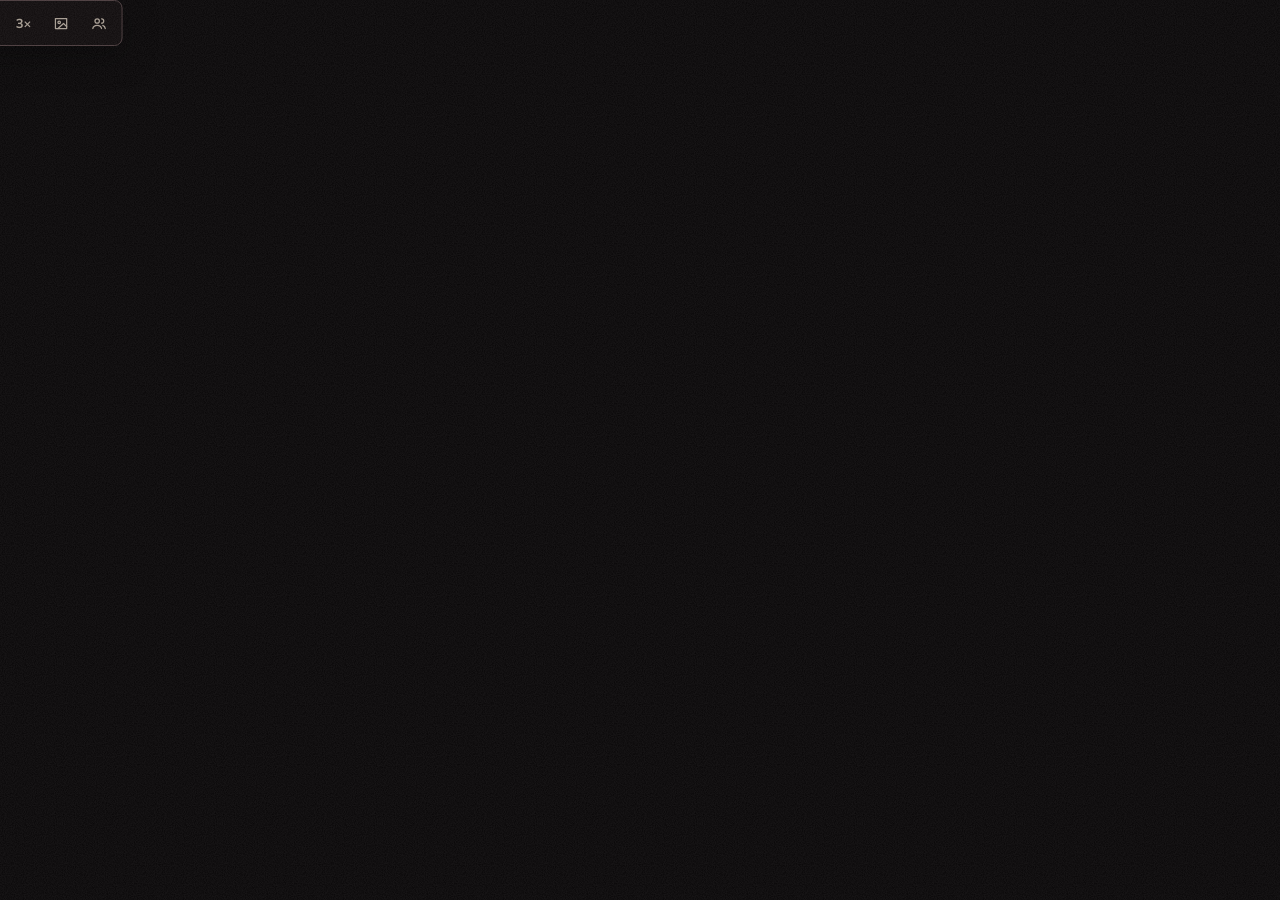
Scenario: modelo pronto na barra do token › o dono escolhe um modelo e ele vira a imagem do token
Click the button named "Escolher modelo" at (100, 23), box [82,5,118,41]
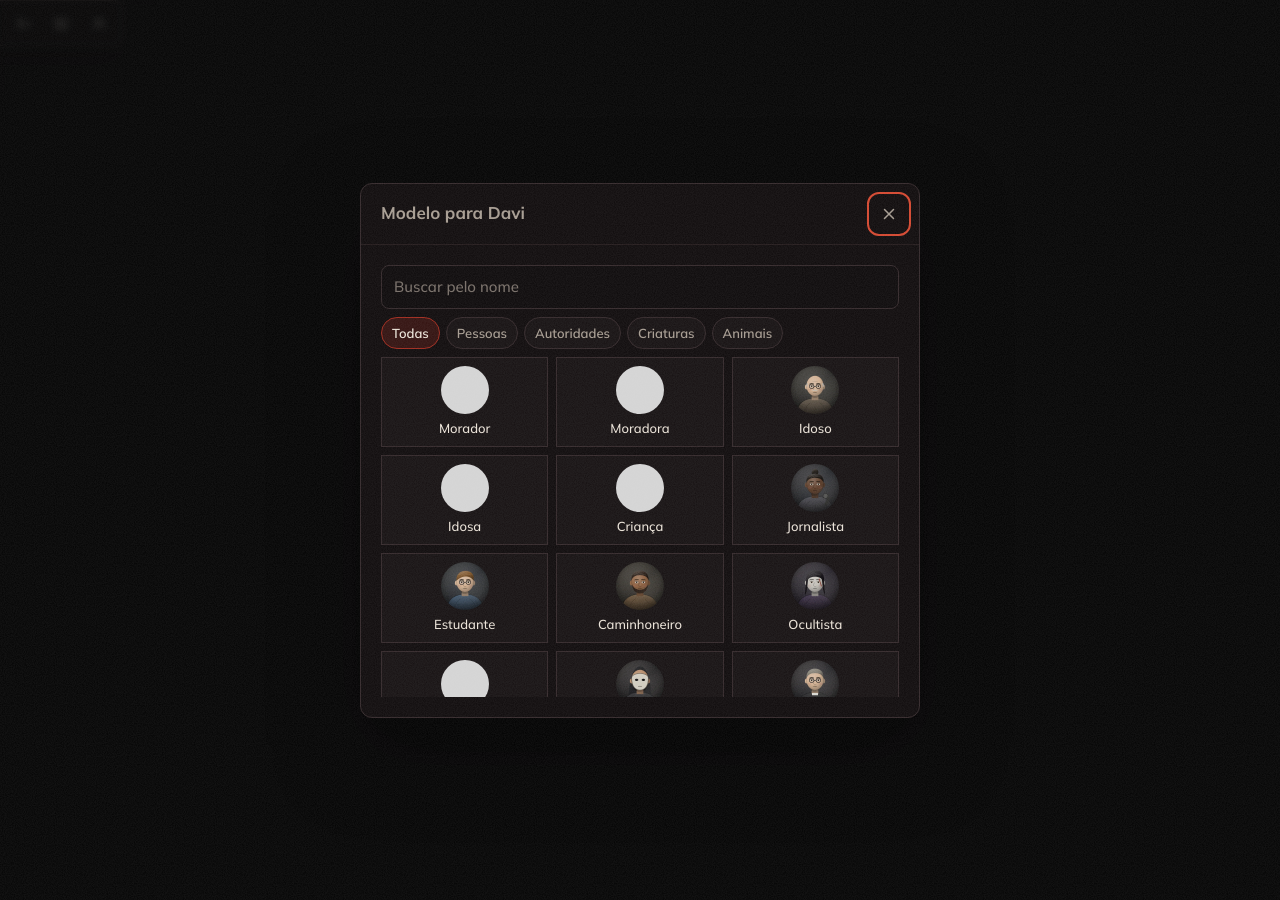
Click the button "Criaturas" at (666, 332), box [627,316,706,348]
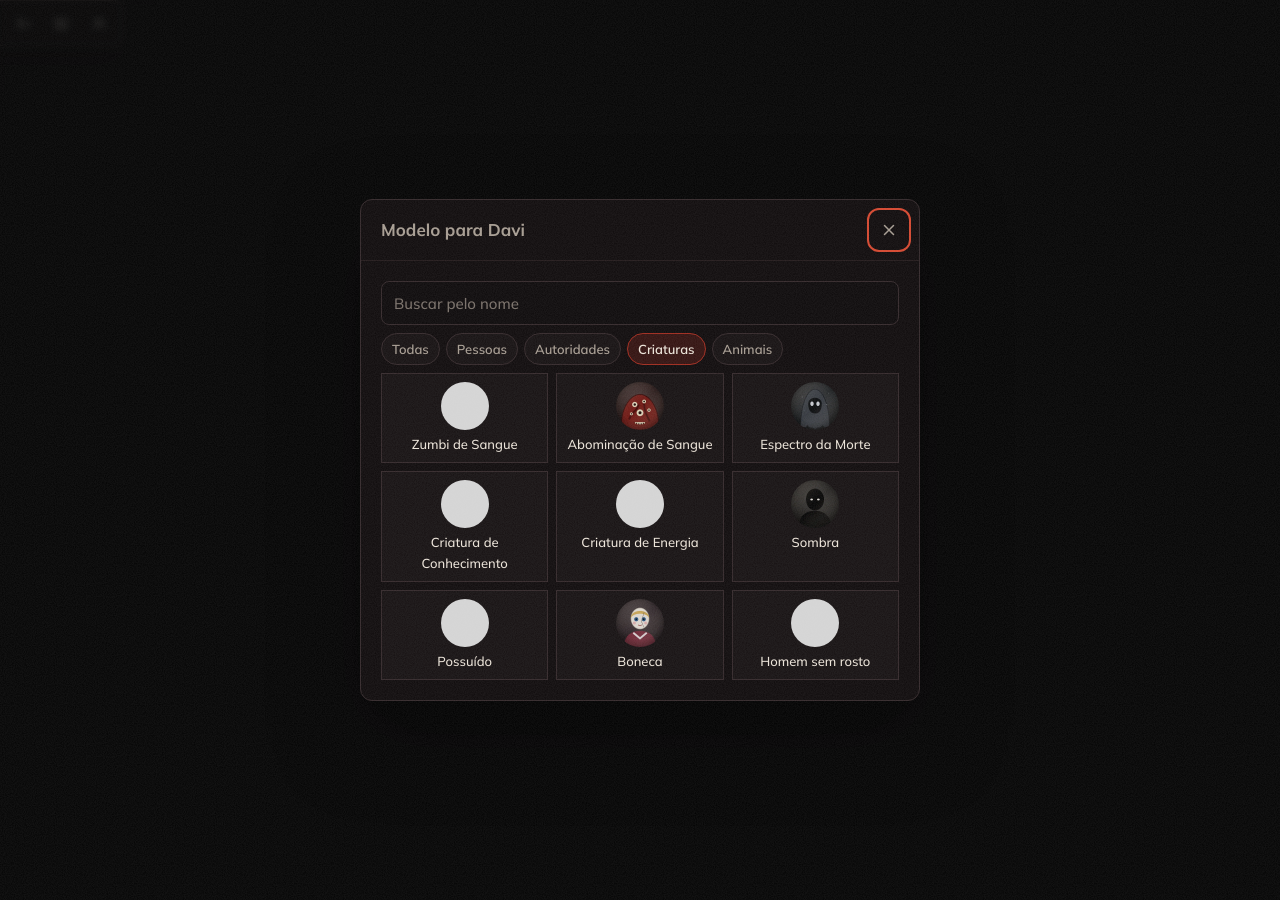
Click the button with aria-label "Escolher Sombra" at (815, 527), box [732,471,899,582]
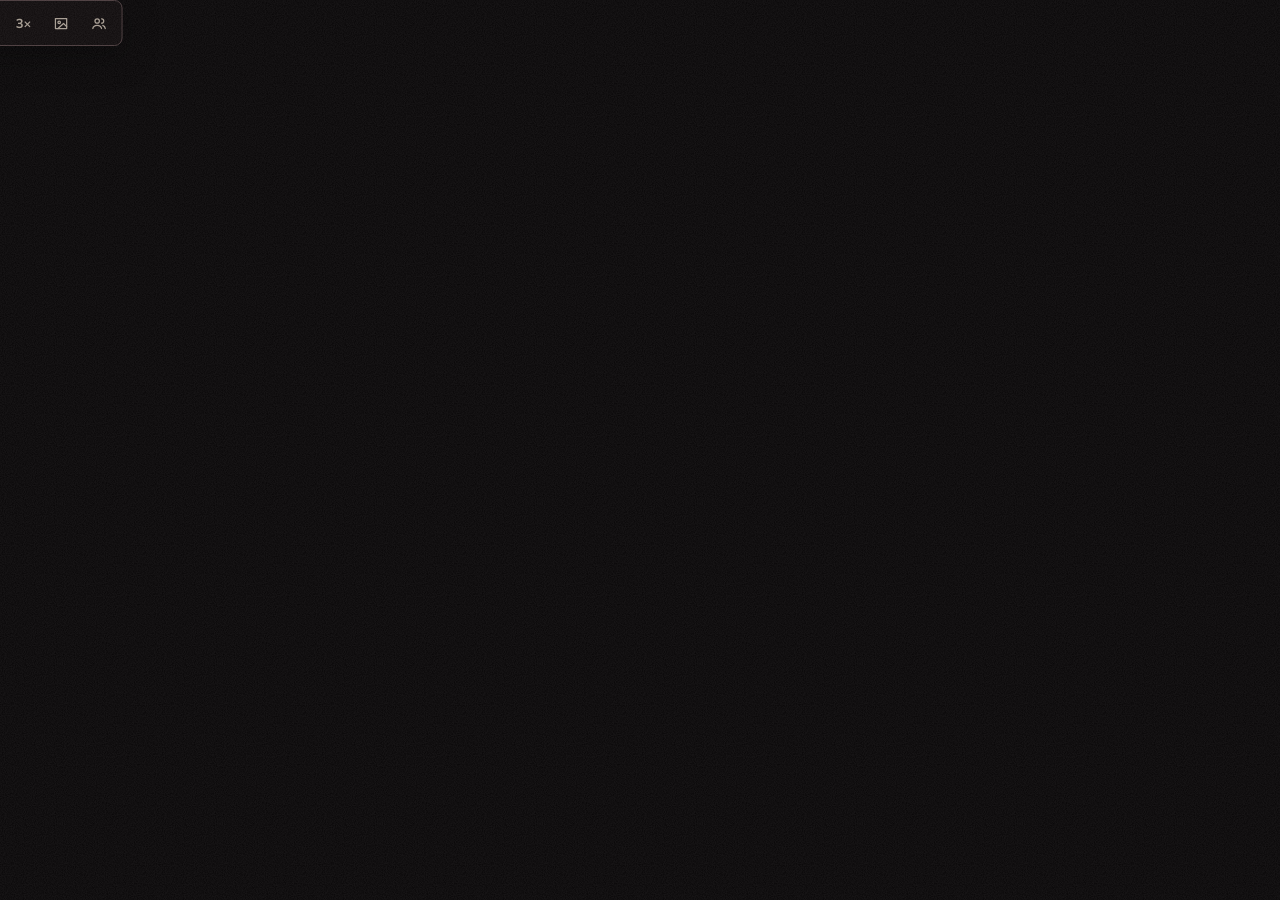
Expected: the dialog is gone
